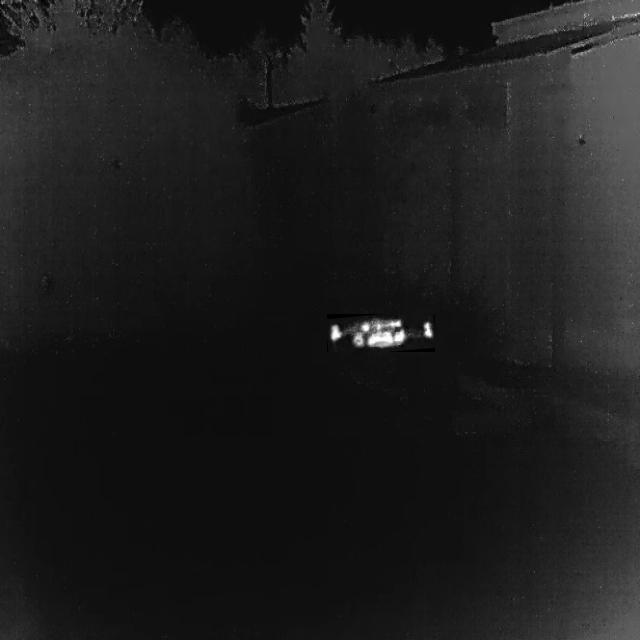drone: (327, 314, 435, 352)
